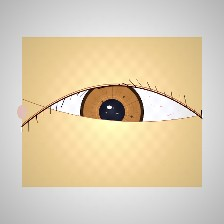pinguecula_lesion: (25, 91, 74, 130)
